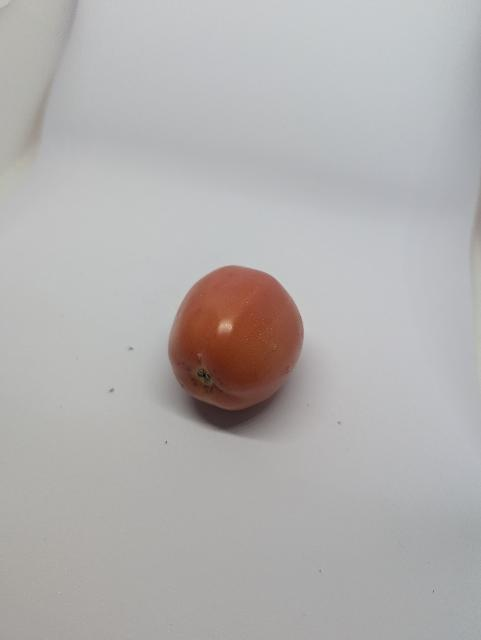red: (151, 247, 347, 431)
